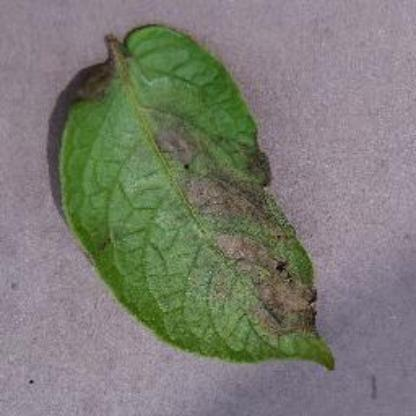Late-Blight: (40, 17, 361, 391)
